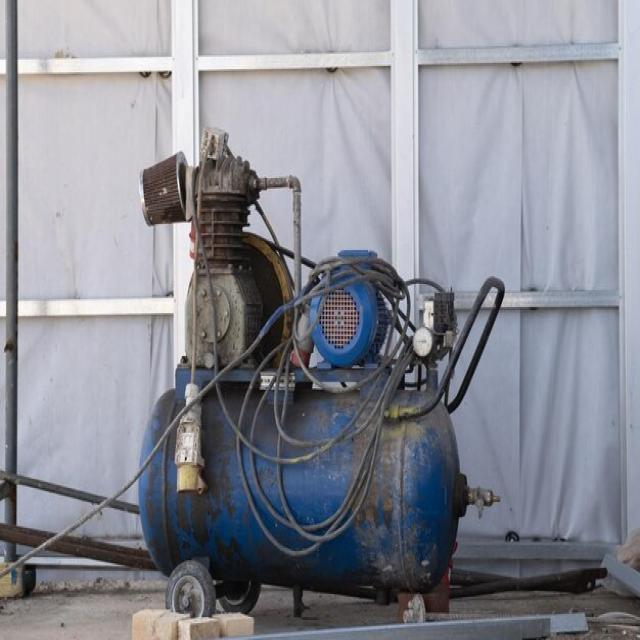compressor: (135, 124, 505, 620)
